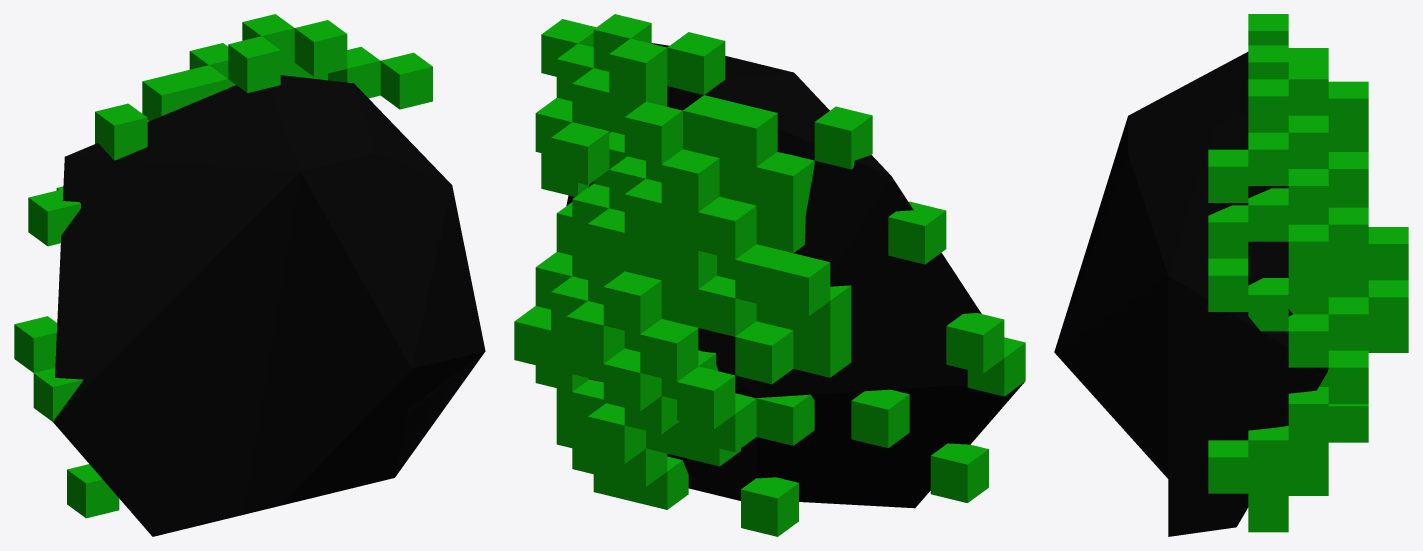
Rendered from br-m-bush_greenB.fbx.
3 renders of one model, left to right at view 1: azimuth 30°, elevation 25°; view 2: azimuth 150°, elevation 25°; view 3: azimuth 270°, elevation 25°, orthographic. The views are drawn at different scales.
Parts seen in each view (by area): view 1: rock, pCube1102, pCube1097, pCube1100, pCube1095, pCube1093, pCube1094, pCube1090, pCube1096, pCube1092, pCube1098, pCube1101 (+2 smaller); view 2: rock, pCube1117, pCube1148, pCube1137, pCube1096, pCube1136, pCube1126, pCube1108, pCube1105, pCube1130, pCube1100, pCube1110 (+56 smaller); view 3: rock, pCube1140, pCube1139, pCube1102, pCube1101, pCube1087, pCube1098, pCube1097, pCube1142, pCube1121, pCube1119, pCube1120 (+23 smaller).
Boxes of the visible parts, <box> form: rock: <box>53,75,485,536</box>; pCube1102: <box>294,20,347,76</box>; pCube1097: <box>380,52,432,109</box>; pCube1100: <box>228,36,280,92</box>; pCube1095: <box>95,103,147,160</box>; pCube1093: <box>14,316,57,372</box>; pCube1094: <box>28,189,80,246</box>; pCube1090: <box>67,464,119,518</box>; pCube1096: <box>142,73,194,121</box>; pCube1092: <box>33,368,83,421</box>; pCube1098: <box>328,46,380,98</box>; pCube1101: <box>242,14,294,65</box>; rock: <box>566,43,1024,508</box>; pCube1117: <box>698,197,756,259</box>; pCube1148: <box>677,366,735,429</box>; pCube1137: <box>640,319,698,381</box>; pCube1096: <box>719,104,777,166</box>; pCube1136: <box>735,321,793,384</box>; pCube1126: <box>772,253,830,316</box>; pCube1108: <box>551,122,609,185</box>; pCube1105: <box>624,101,682,164</box>; pCube1130: <box>603,271,661,334</box>; pCube1100: <box>667,32,725,94</box>; pCube1110: <box>661,149,719,212</box>; rock: <box>1054,52,1328,536</box>; pCube1140: <box>1328,297,1368,350</box>; pCube1139: <box>1368,280,1408,333</box>; pCube1102: <box>1248,79,1288,132</box>; pCube1101: <box>1288,62,1328,115</box>; pCube1087: <box>1208,440,1248,493</box>; pCube1098: <box>1248,132,1288,185</box>; pCube1097: <box>1208,149,1248,202</box>; pCube1142: <box>1328,350,1368,403</box>; pCube1121: <box>1328,207,1368,260</box>; pCube1119: <box>1208,258,1248,311</box>; pCube1120: <box>1288,224,1328,277</box>.
Size of the model in its own units: 81.25 by 75 by 55.27.
